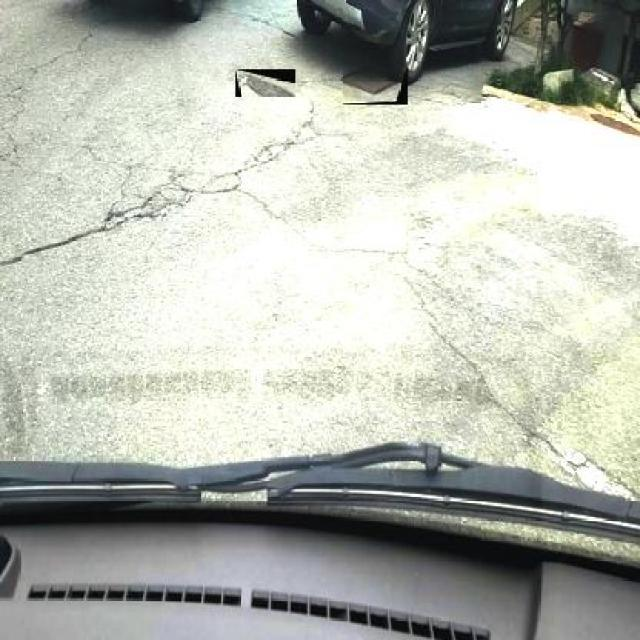Manhole: (344, 66, 408, 105), (236, 69, 296, 97)
Pothole: (100, 174, 214, 233)
